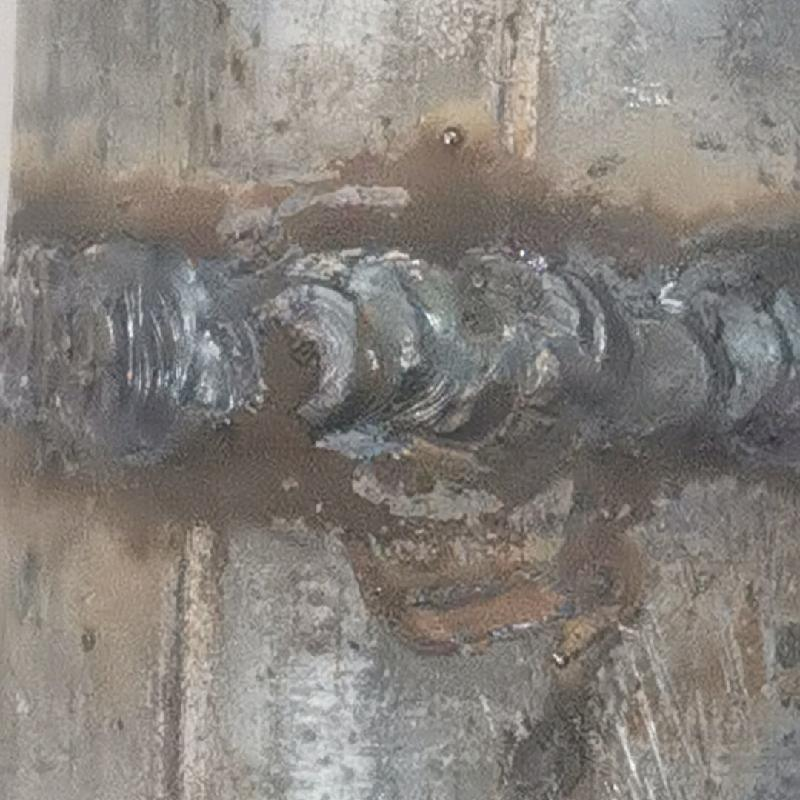good: (3, 228, 799, 454)
